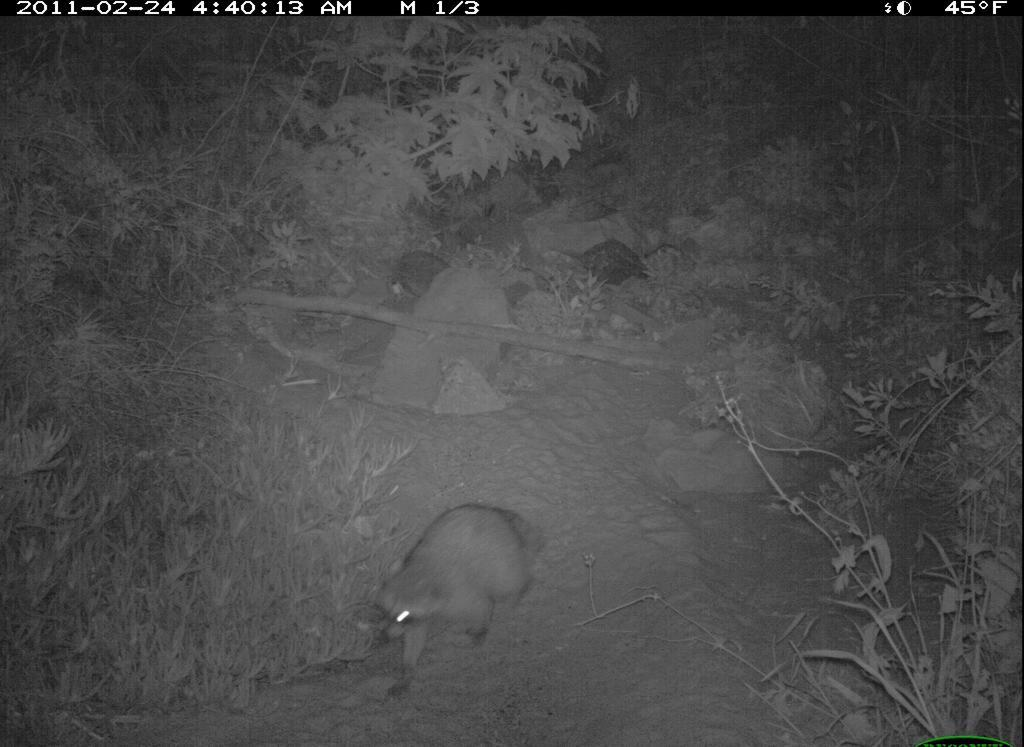raccoon: (353, 497, 547, 705)
